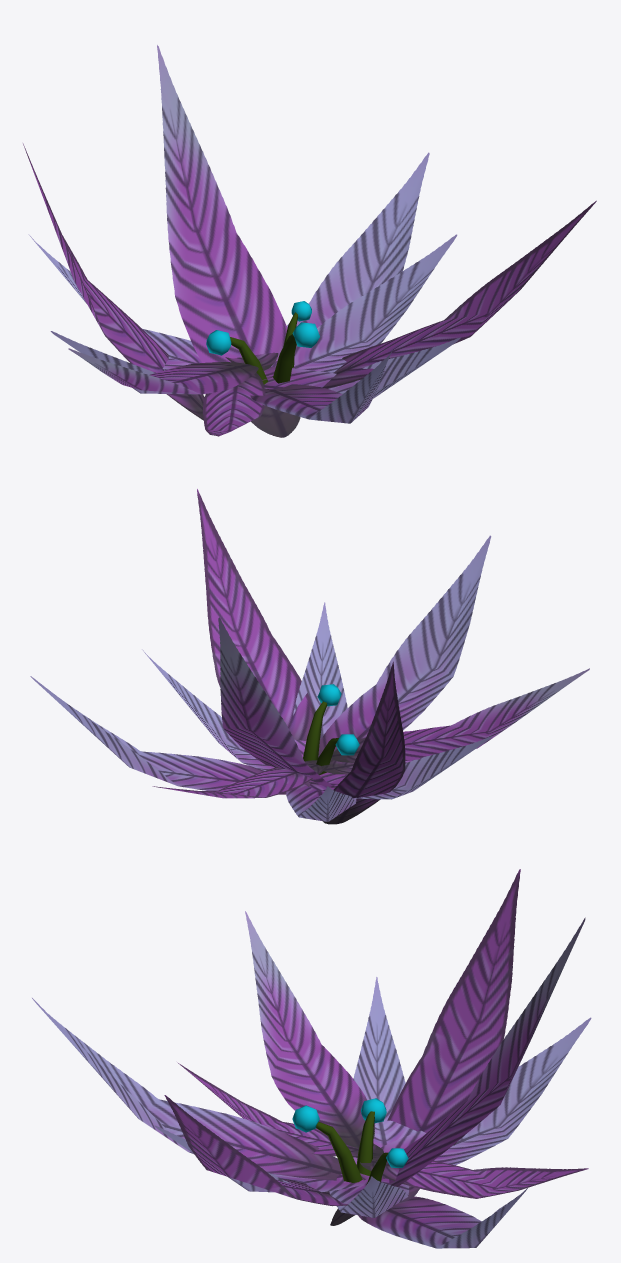
The model's file is bush_2_pistil.fbx.
3 renders of one model, top to bottom at view 1: azimuth 30°, elevation 25°; view 2: azimuth 150°, elevation 25°; view 3: azimuth 270°, elevation 25°, orthographic. The views are drawn at different scales.
Visible parts, largest first — view 1: feuillage_2_lighter; view 2: feuillage_2_lighter; view 3: feuillage_2_lighter.
Part boxes in pixels (left/top/right/bottom): feuillage_2_lighter: left=23, top=45, right=596, bottom=437; feuillage_2_lighter: left=30, top=489, right=589, bottom=824; feuillage_2_lighter: left=32, top=869, right=591, bottom=1248.
Bounding box in the file's own units: 121 × 72.69 × 116.
